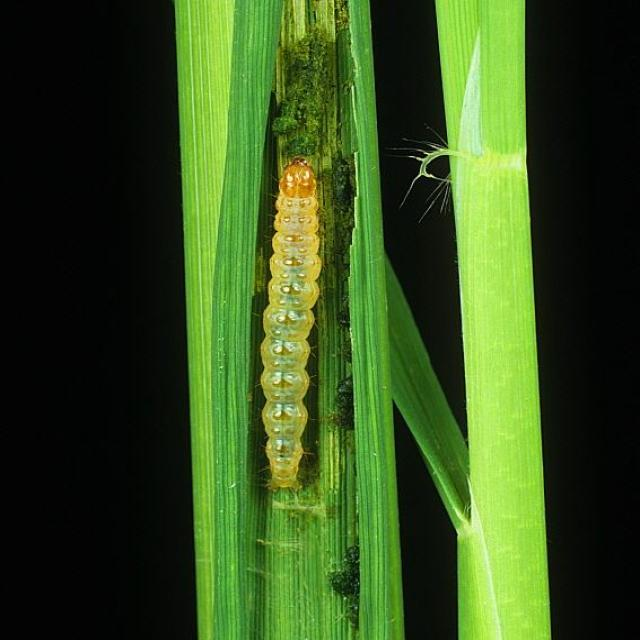ulat pada daun padi: (257, 155, 323, 492)
